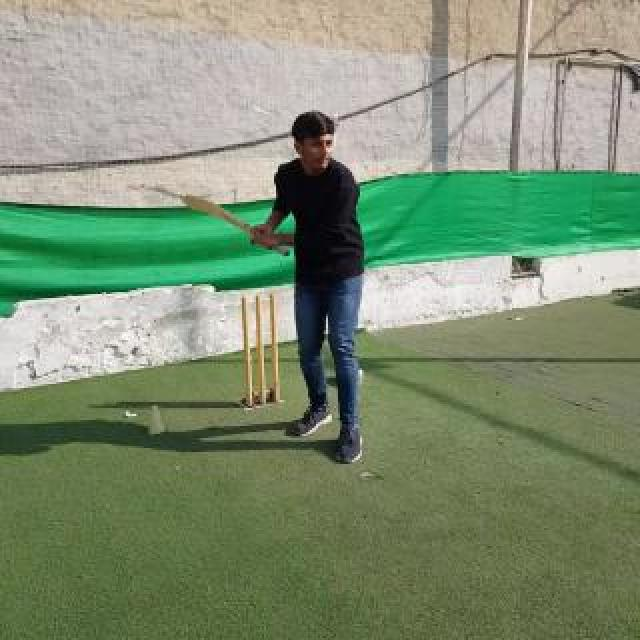bat: (180, 194, 290, 258)
